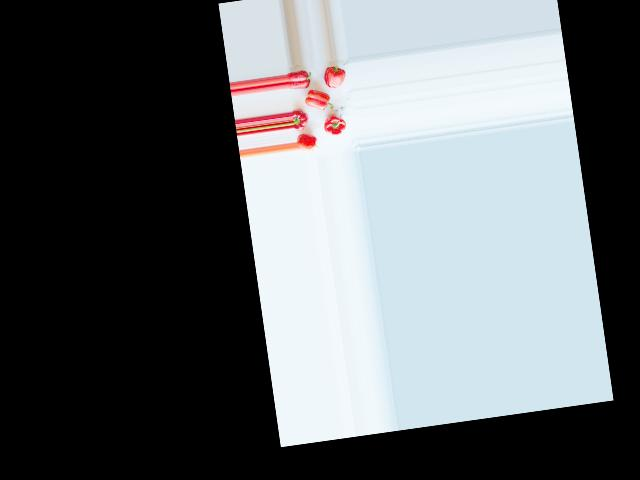bell_pepper: (292, 107, 310, 130)
